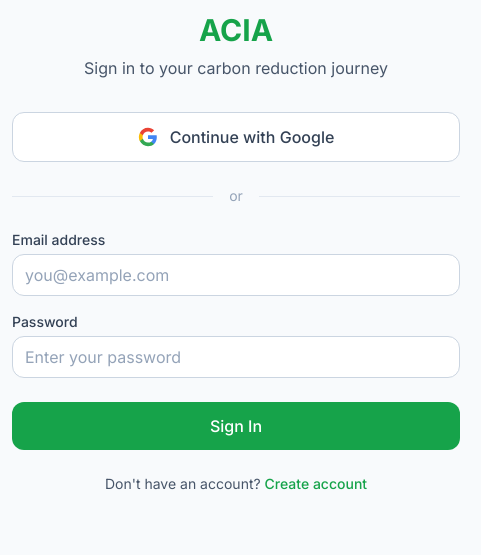
it: LoginForm › shows email-specific validation error for invalid email format
Type "notanemail" into the field labelled "Email address" at (236, 275), box top-left (12, 254), bottom-right (460, 296)
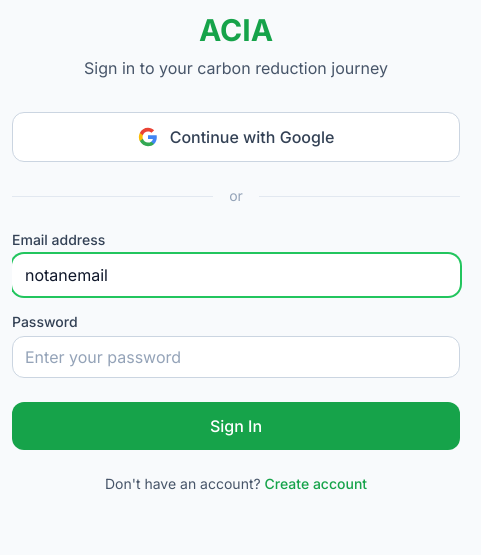
Click the button "Sign In" at (236, 426), box top-left (12, 402), bottom-right (460, 450)
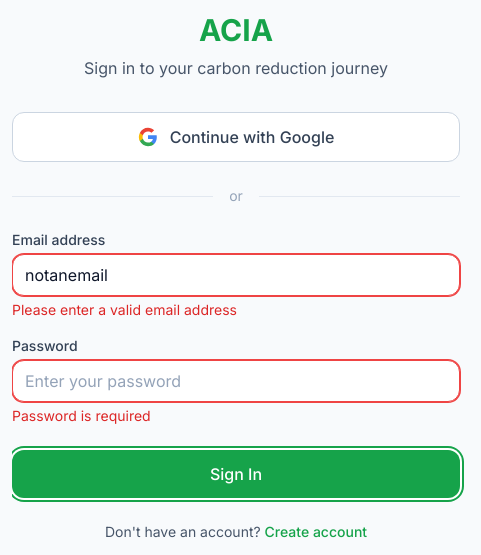
Result: the text "Please enter a valid email address" is shown at top-left (12, 301), bottom-right (237, 318)
